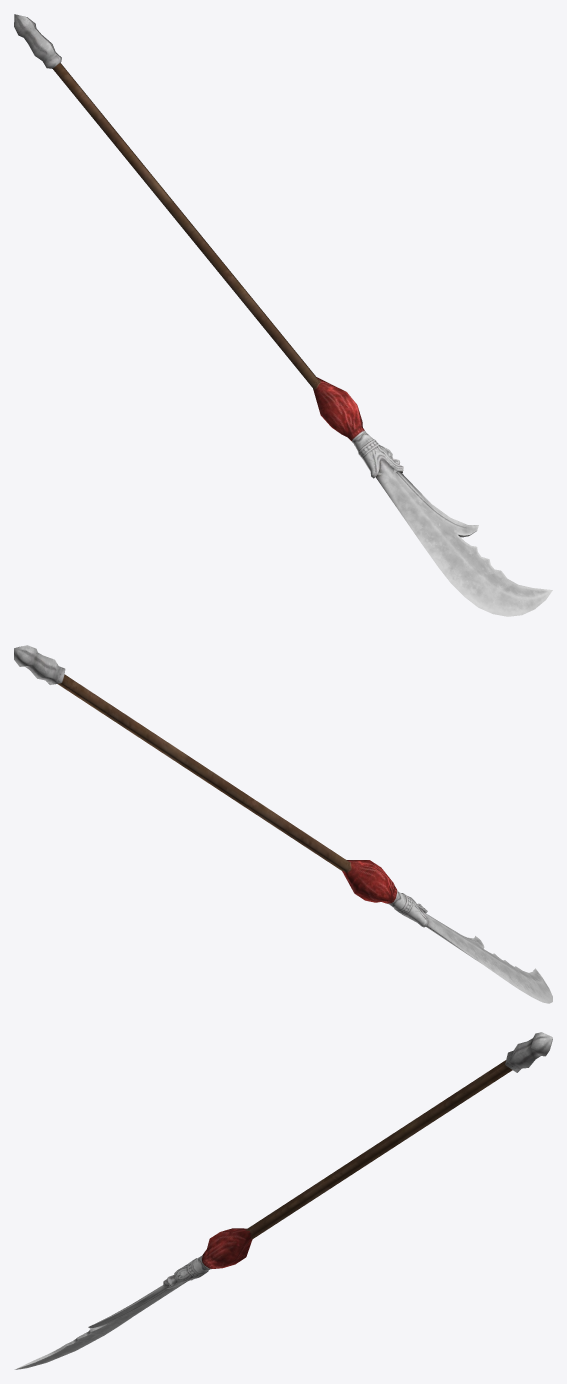
File: rider-weapon-slice-ironweapons.glb
3 views of the same model, one above another, from view 1: azimuth 90°, elevation 25°; view 2: azimuth 150°, elevation 25°; view 3: azimuth 270°, elevation 25° (orthographic).
Size of the model in its own units: 1.39 by 2.08 by 2.19.
1 material, 1 textured.
